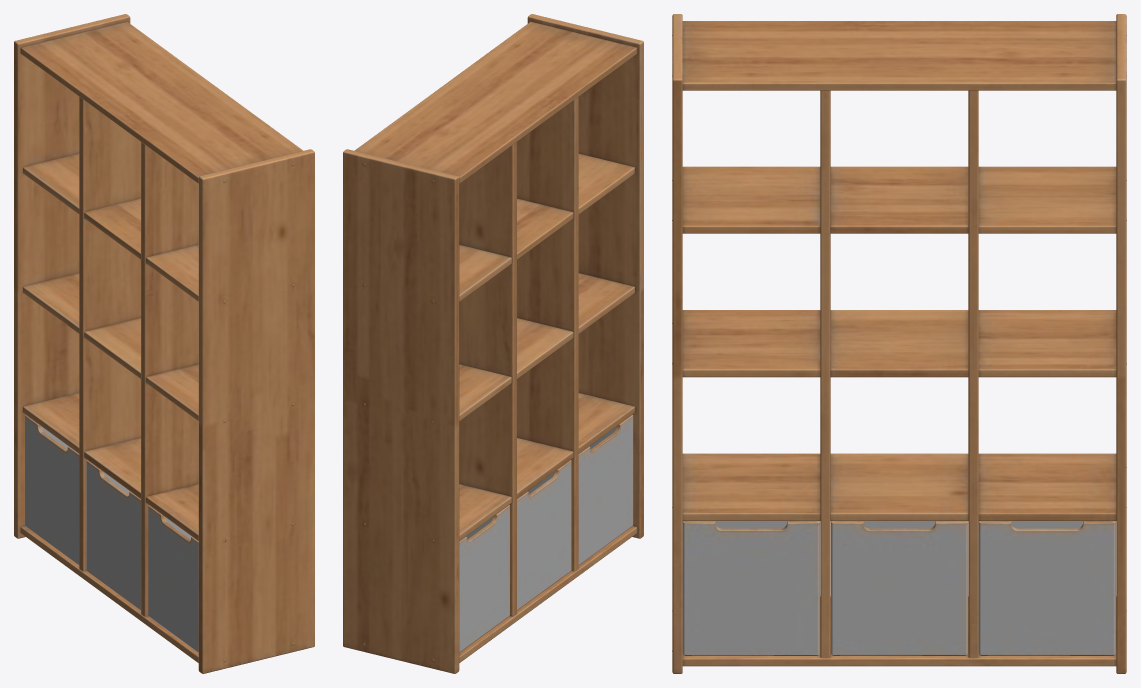
File: wooden_display_shelves_01.glb
The picture shows the model from 3 angles, left to right: view 1: azimuth 30°, elevation 25°; view 2: azimuth 150°, elevation 25°; view 3: azimuth 270°, elevation 25°; orthographic projection. The views are drawn at different scales.
Visible parts, largest first — view 1: wooden_display_shelves_01, wooden_display_shelves_01_drawer_01, wooden_display_shelves_01_drawer_02, wooden_display_shelves_01_drawer_03; view 2: wooden_display_shelves_01, wooden_display_shelves_01_drawer_03, wooden_display_shelves_01_drawer_02, wooden_display_shelves_01_drawer_01; view 3: wooden_display_shelves_01, wooden_display_shelves_01_drawer_03, wooden_display_shelves_01_drawer_01, wooden_display_shelves_01_drawer_02.
Part boxes in pixels (x1,y1,x2,y2): wooden_display_shelves_01: (14, 14, 314, 673); wooden_display_shelves_01_drawer_01: (25, 415, 79, 565); wooden_display_shelves_01_drawer_02: (86, 460, 140, 610); wooden_display_shelves_01_drawer_03: (148, 505, 198, 652); wooden_display_shelves_01: (343, 14, 643, 673); wooden_display_shelves_01_drawer_03: (578, 415, 633, 565); wooden_display_shelves_01_drawer_02: (517, 460, 571, 610); wooden_display_shelves_01_drawer_01: (459, 505, 509, 652); wooden_display_shelves_01: (672, 14, 1126, 673); wooden_display_shelves_01_drawer_03: (682, 521, 819, 655); wooden_display_shelves_01_drawer_01: (978, 521, 1115, 655); wooden_display_shelves_01_drawer_02: (831, 521, 967, 655).
Bounding box in the file's own units: 0.3715 × 1.56 × 1.08.
Materials: 1 (1 with a texture image).
